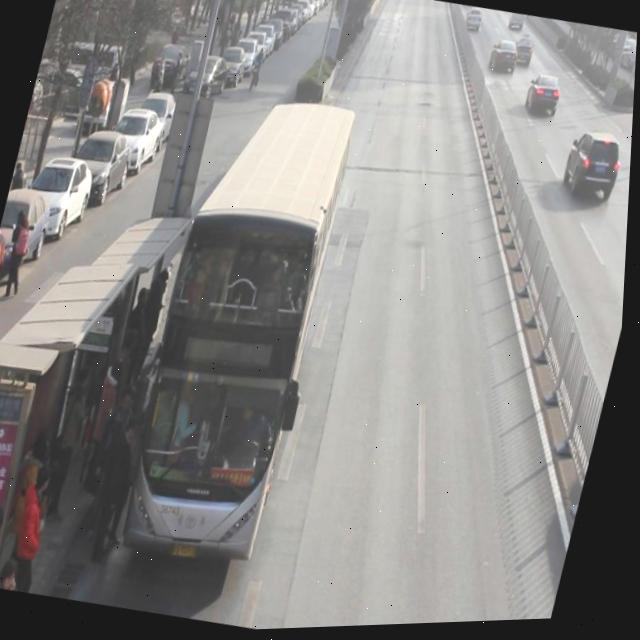car: (561, 133, 631, 214), (523, 77, 567, 128), (486, 42, 523, 85), (511, 38, 539, 75), (462, 13, 484, 41)
truck: (507, 17, 526, 37)
van: (115, 102, 360, 578)
